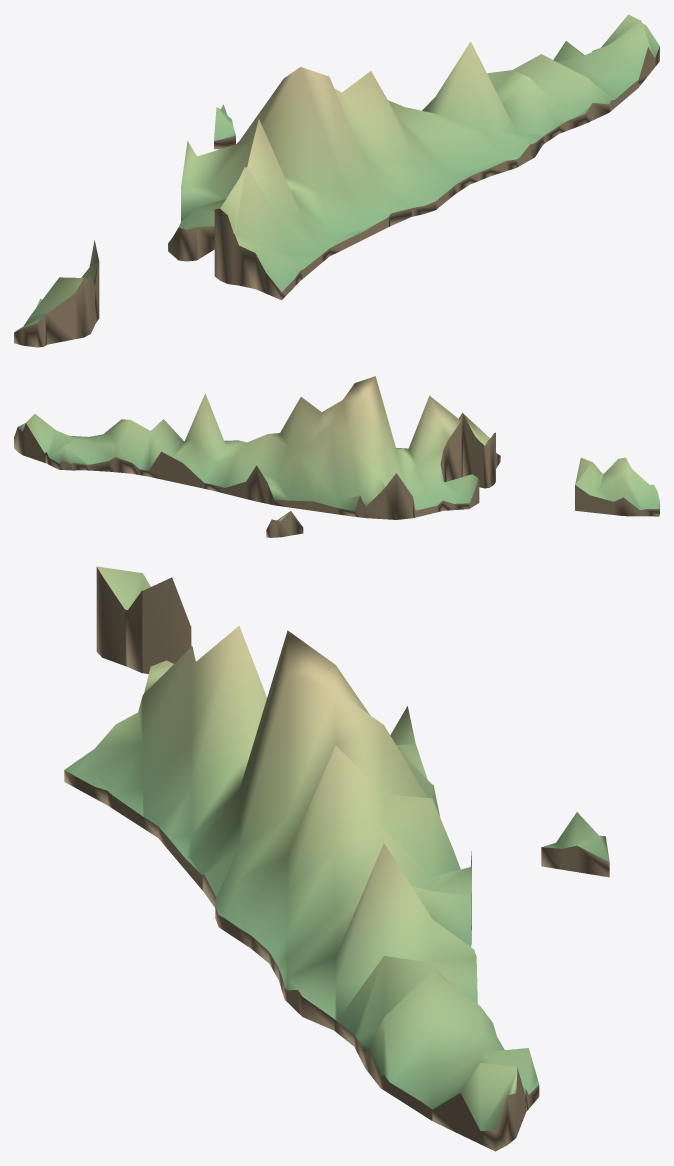
File: TLS.glb
3 renders of one model, top to bottom at view 1: azimuth 30°, elevation 25°; view 2: azimuth 150°, elevation 25°; view 3: azimuth 270°, elevation 25°, orthographic. The views are drawn at different scales.
Visible parts, largest first — view 1: TLS; view 2: TLS; view 3: TLS.
Boxes of the visible parts, x1,y1,x2,y2 form: TLS: [14, 14, 659, 347]; TLS: [14, 376, 659, 537]; TLS: [64, 566, 609, 1151].
Bounding box in the file's own units: 1.79 × 0.338 × 0.7627.
